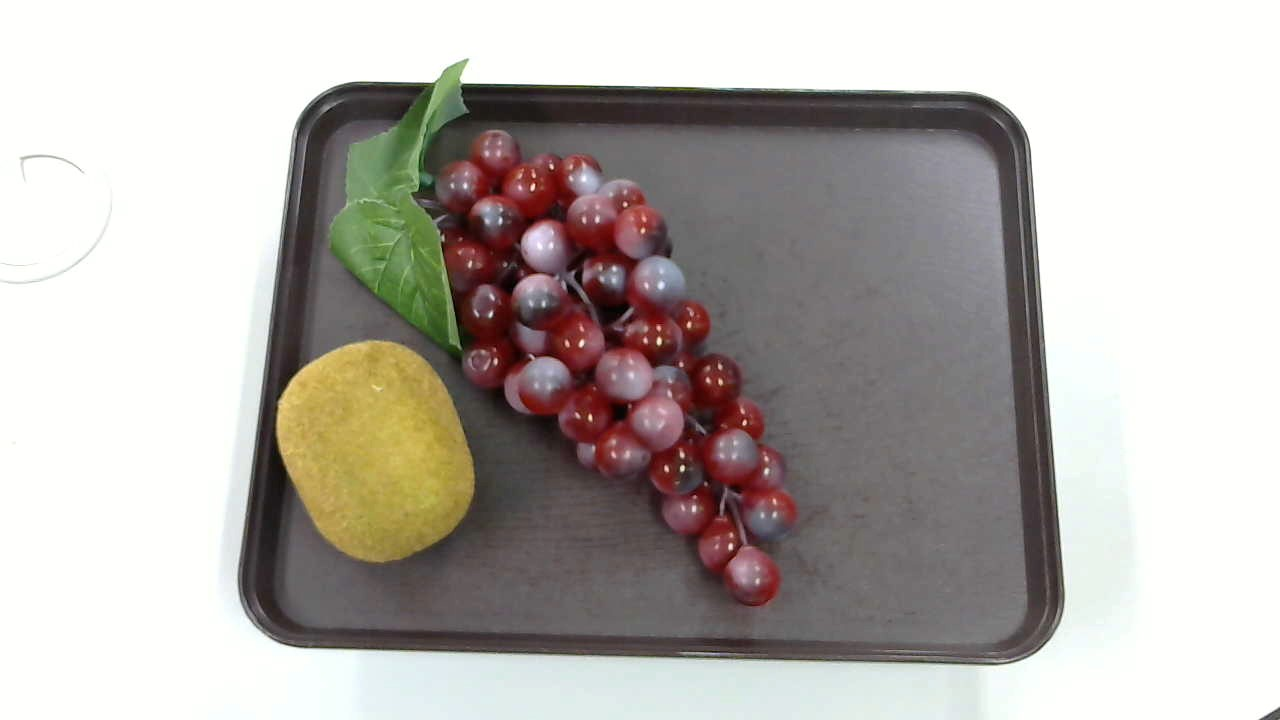grape: (327, 59, 796, 612)
kiwi fruit: (273, 339, 481, 563)
